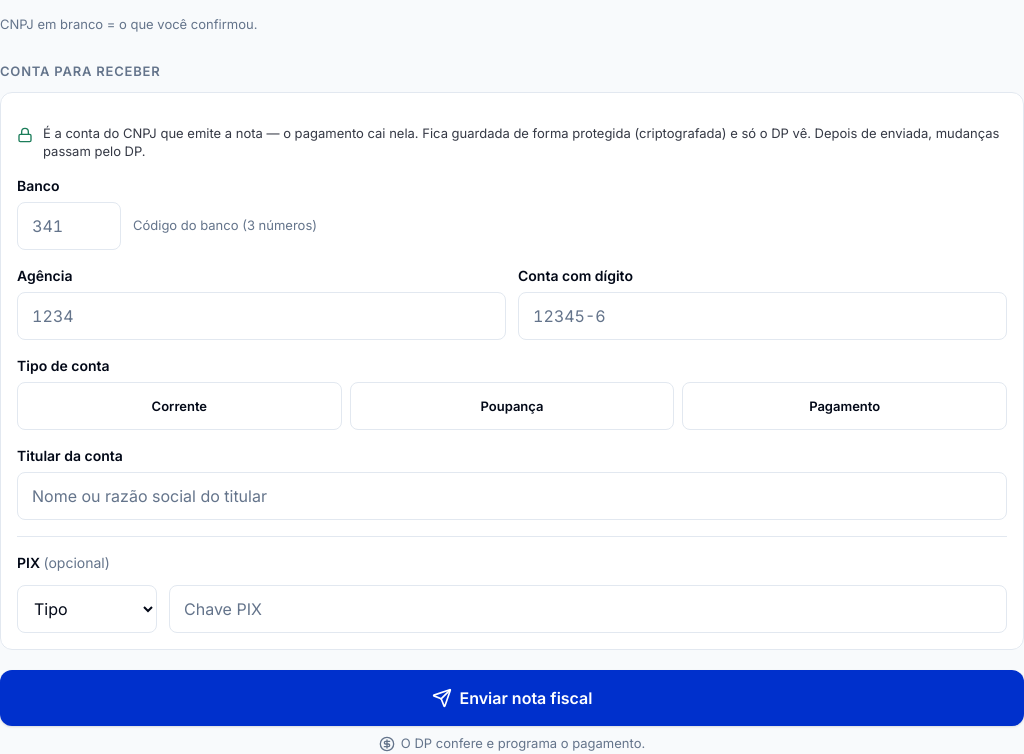
Envio da nota fiscal › nada preenchido: aponta cada campo e não envia
The width and height of the screenshot is (1024, 754).
(page scrolled)
Click the button "Enviar nota fiscal": {"x": 512, "y": 698} [0, 670, 1023, 726]
(page scrolled)
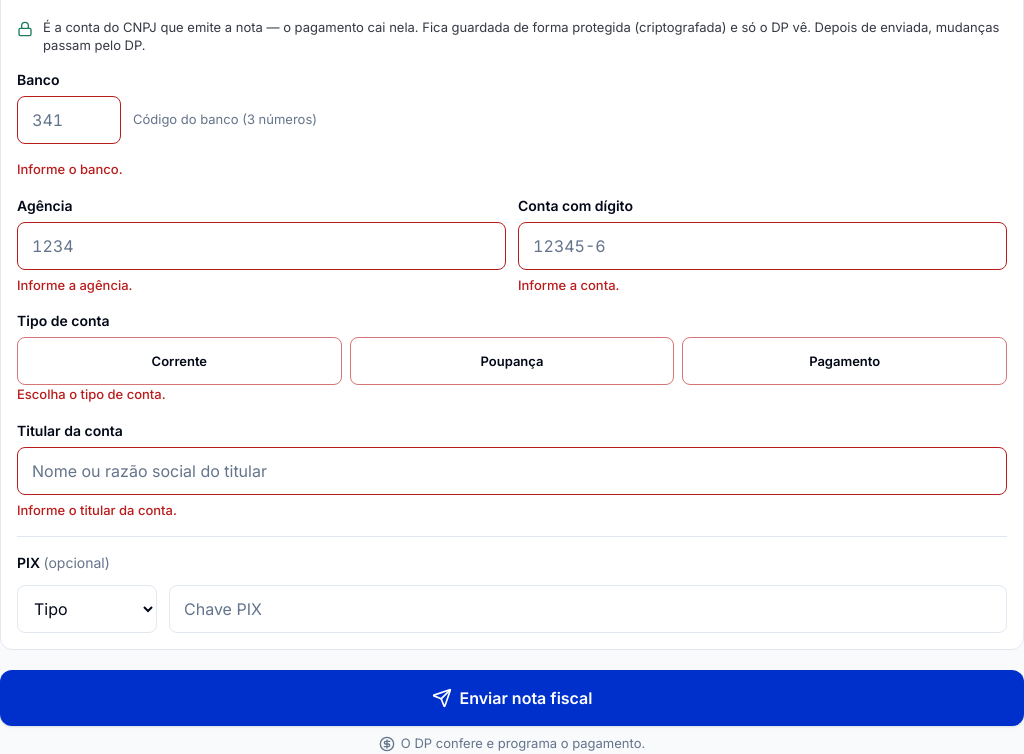
Now the text "Informe o banco." is shown, box [17, 161, 123, 177]
Now the text "Escolha o tipo de conta." is shown, box [17, 386, 166, 402]
